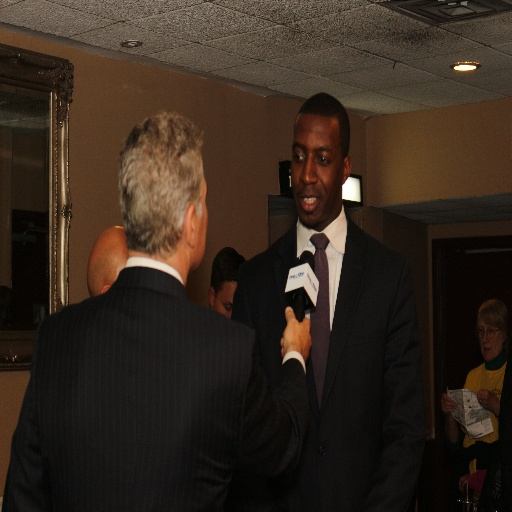hand: (282, 303, 318, 375), (475, 389, 499, 414), (439, 392, 459, 415)
